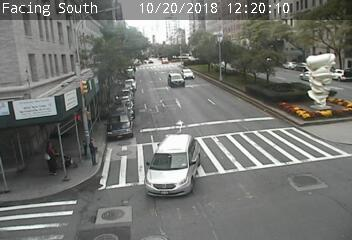car: (144, 134, 200, 197), (168, 72, 185, 87), (181, 68, 194, 79)
